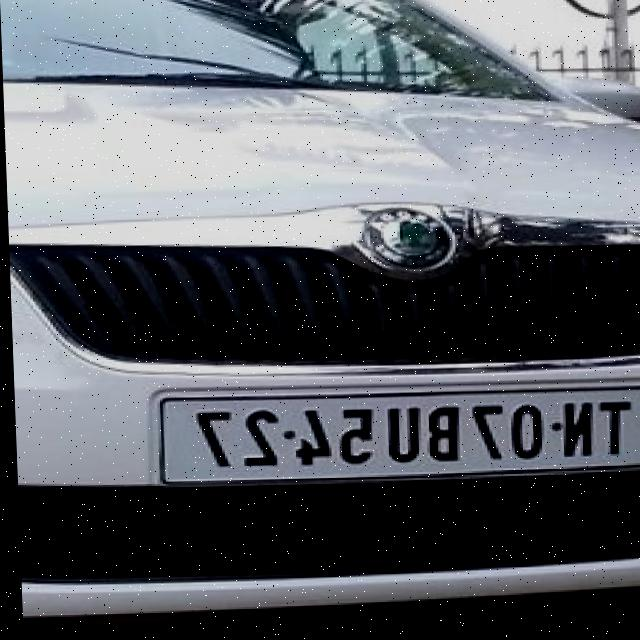plate: (151, 384, 640, 484)
